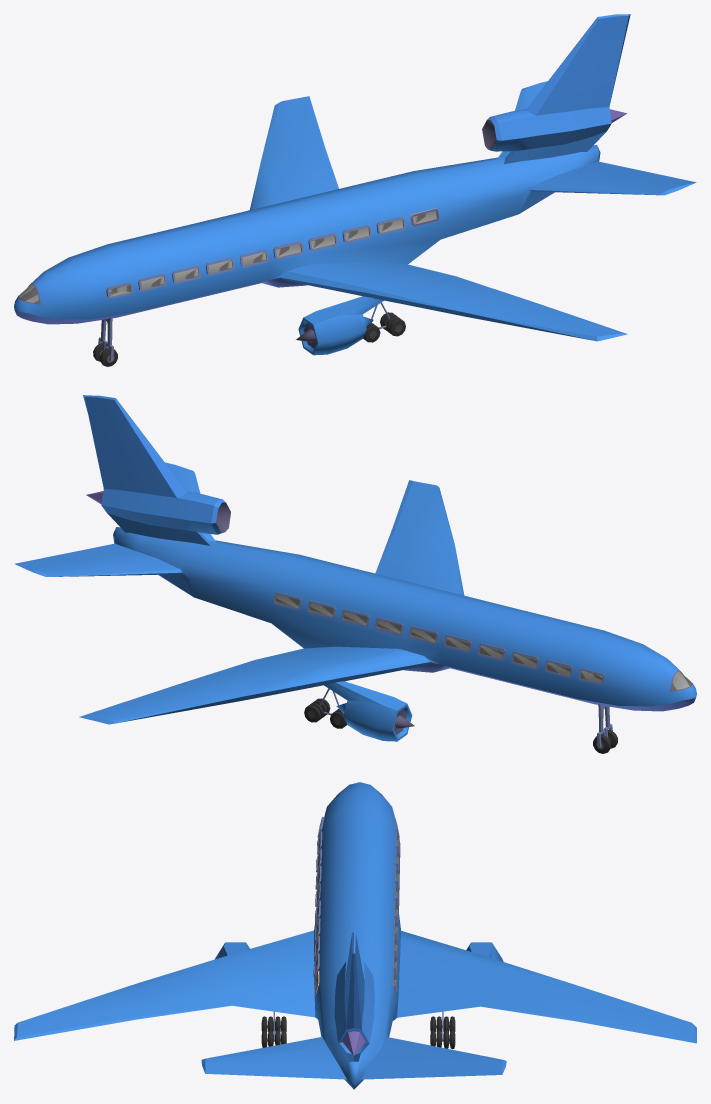
The picture shows the model from 3 angles, top to bottom: view 1: azimuth 30°, elevation 25°; view 2: azimuth 150°, elevation 25°; view 3: azimuth 270°, elevation 25°; orthographic projection. The views are drawn at different scales.
Parts seen in each view (by area): view 1: Plane_3_A; view 2: Plane_3_A; view 3: Plane_3_A.
Boxes of the visible parts, <box> form: Plane_3_A: <box>14,14,696,366</box>; Plane_3_A: <box>14,395,696,753</box>; Plane_3_A: <box>14,782,696,1089</box>.
Size of the model in its own units: 2712 by 969 by 2481.
